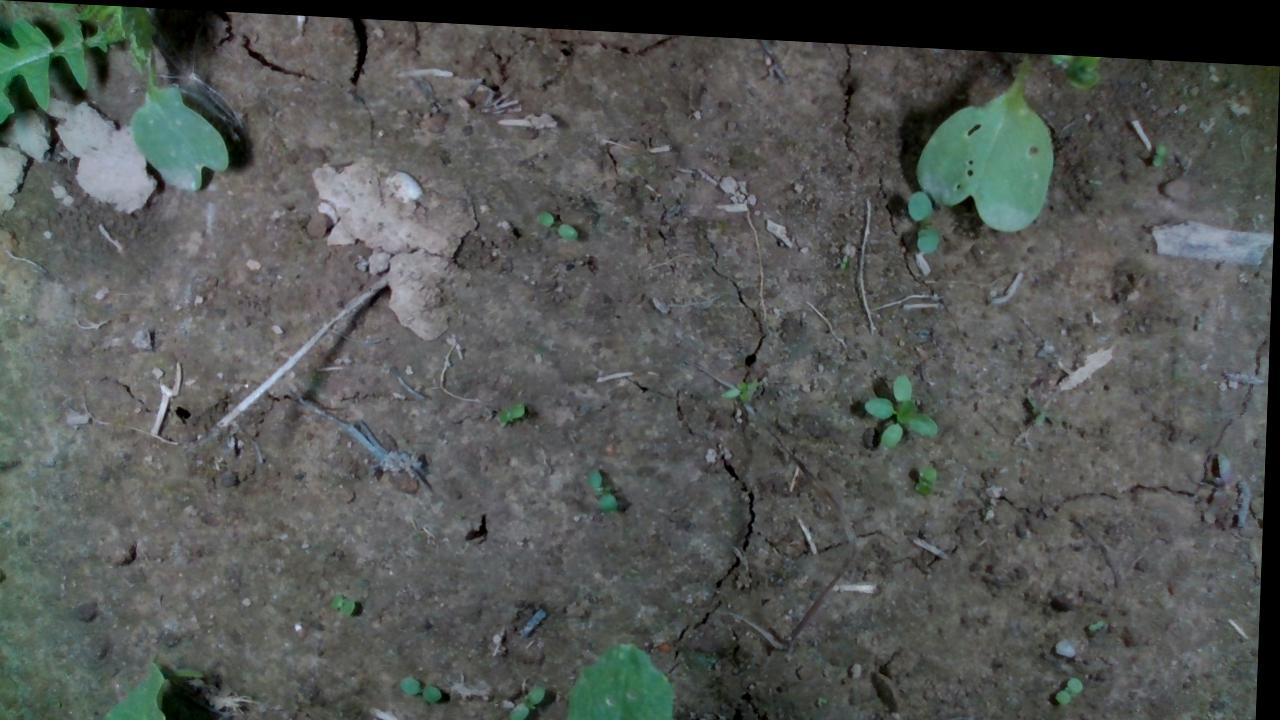weed: (531, 201, 584, 235)
